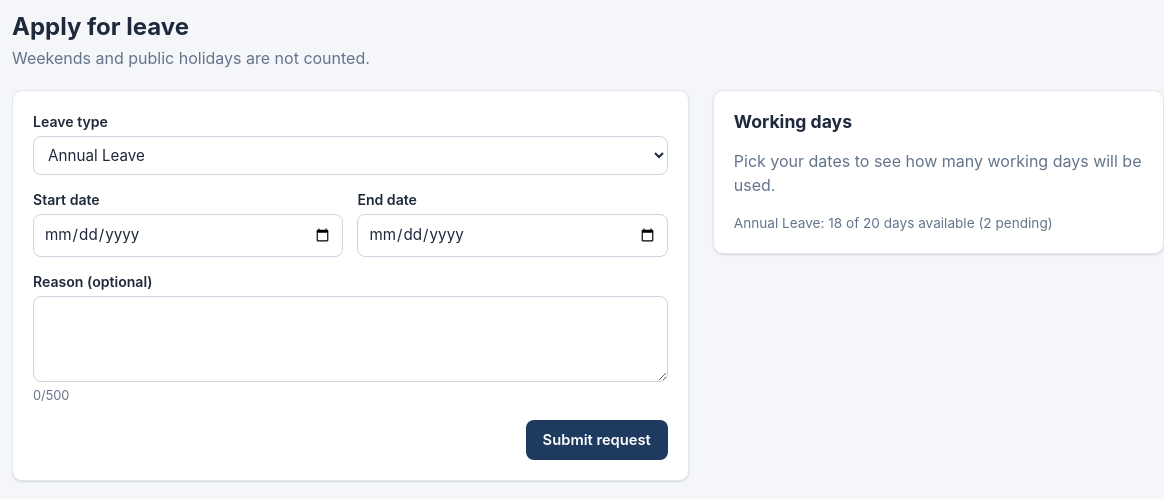
it: ApplyLeavePage › shows the working-day count from the API as dates are picked
Expected: the dropdown labelled "Leave type" is shown, [33,136,668,175]
Type "2030-03-04" into the date field labelled "Start date".
click(188, 236); type("2030-03-04")  # box [33,214,343,257]
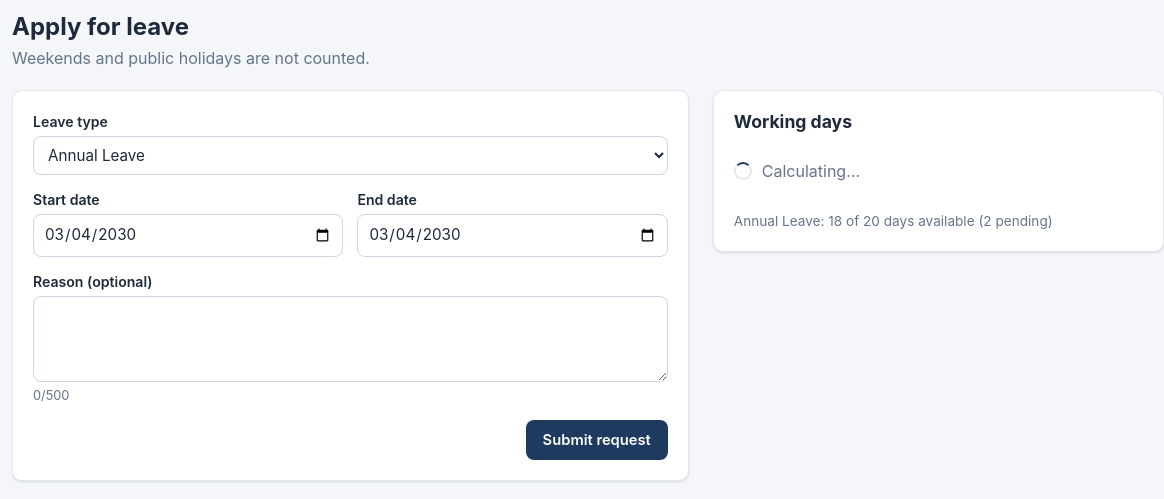
Type "2030-03-10" into the date field labelled "End date".
click(513, 236); type("2030-03-10")  # box [357,214,668,257]
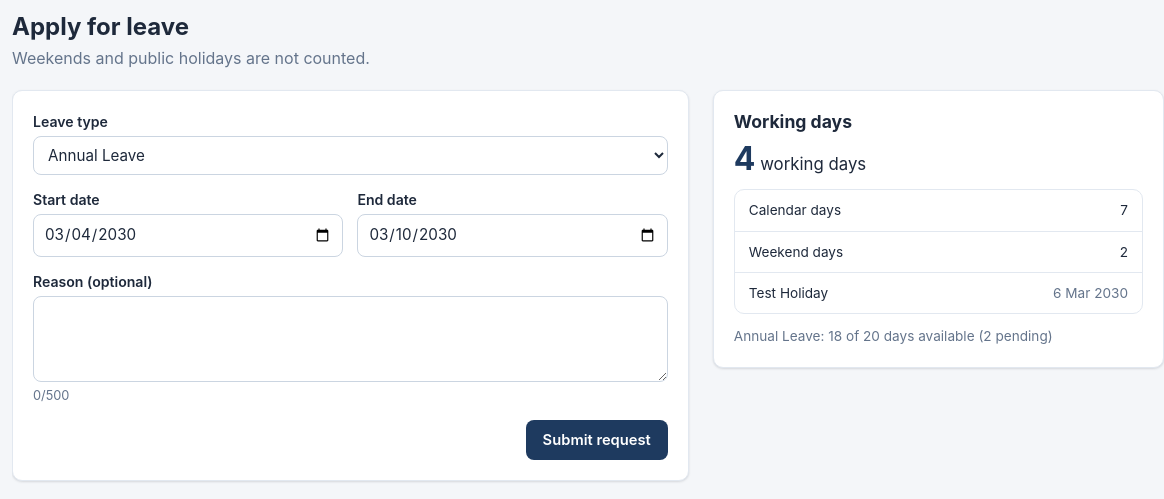
Expected: the element with test id "working-days" reads "4 working days", [734,139,866,178]
Expected: the text "Test Holiday" is shown, [749,283,828,303]
